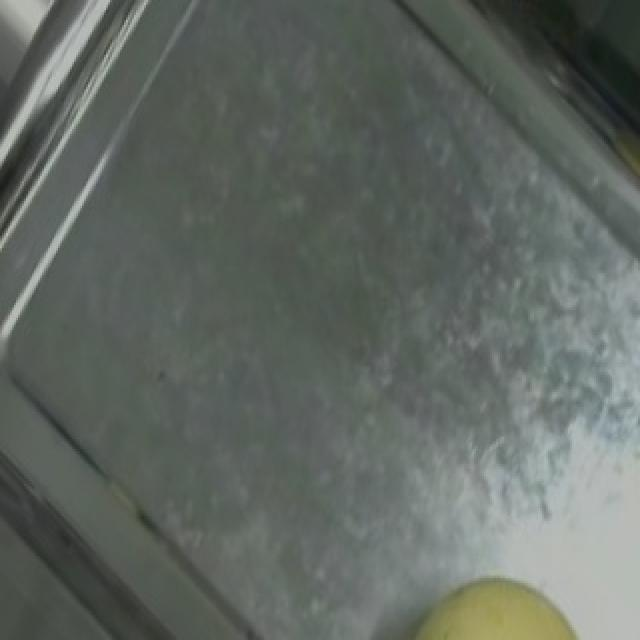Fruit: (372, 553, 618, 640)
